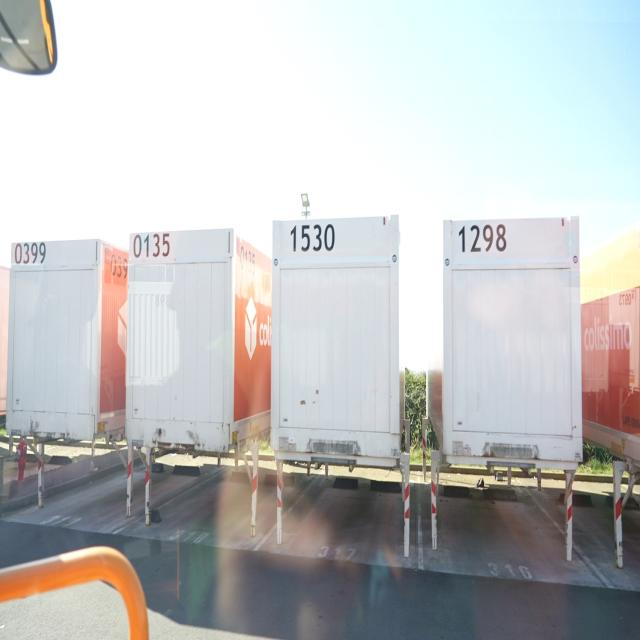Code: (454, 218, 510, 258), (287, 219, 336, 257), (130, 229, 170, 261), (13, 236, 48, 269)
